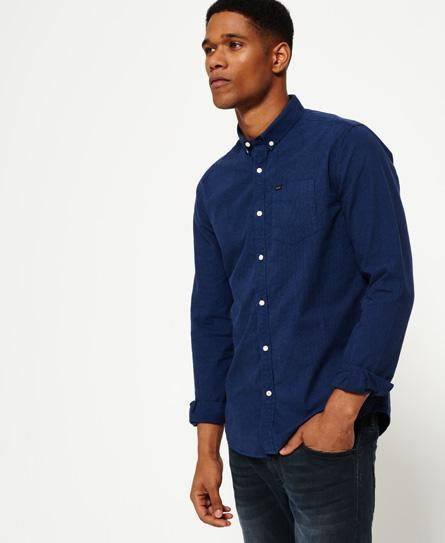teeshirt: (170, 96, 415, 455)
